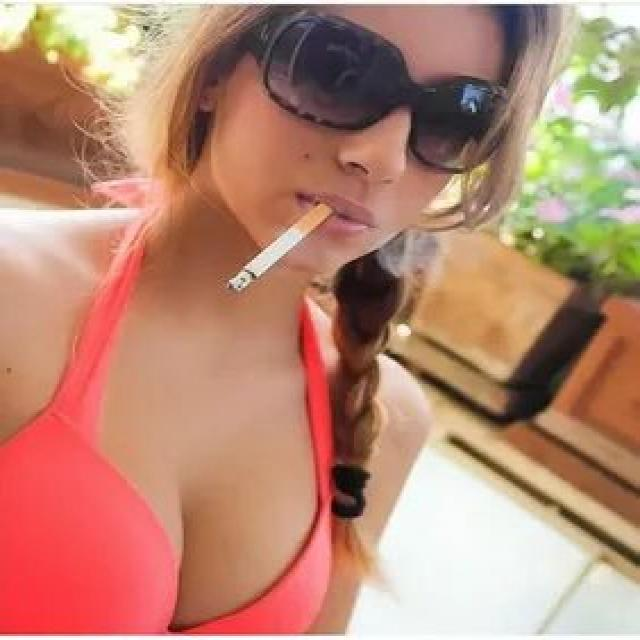cigarette: (220, 200, 338, 296)
